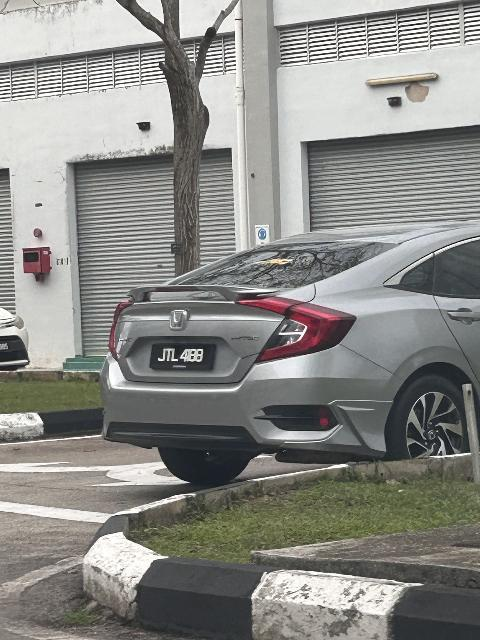JTL4188: (148, 343, 221, 373)
License_Plate: (148, 343, 221, 373)
car: (95, 227, 480, 482)
